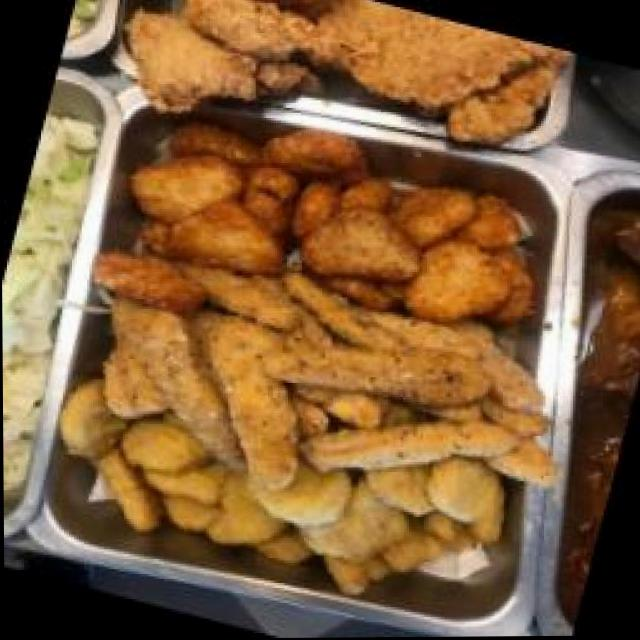chicken_nuggets: (89, 407, 438, 592)
chinese_cabbage: (1, 122, 91, 468)
fried_chicken: (142, 0, 530, 131)
triangle_hash_brown: (123, 115, 542, 330)
